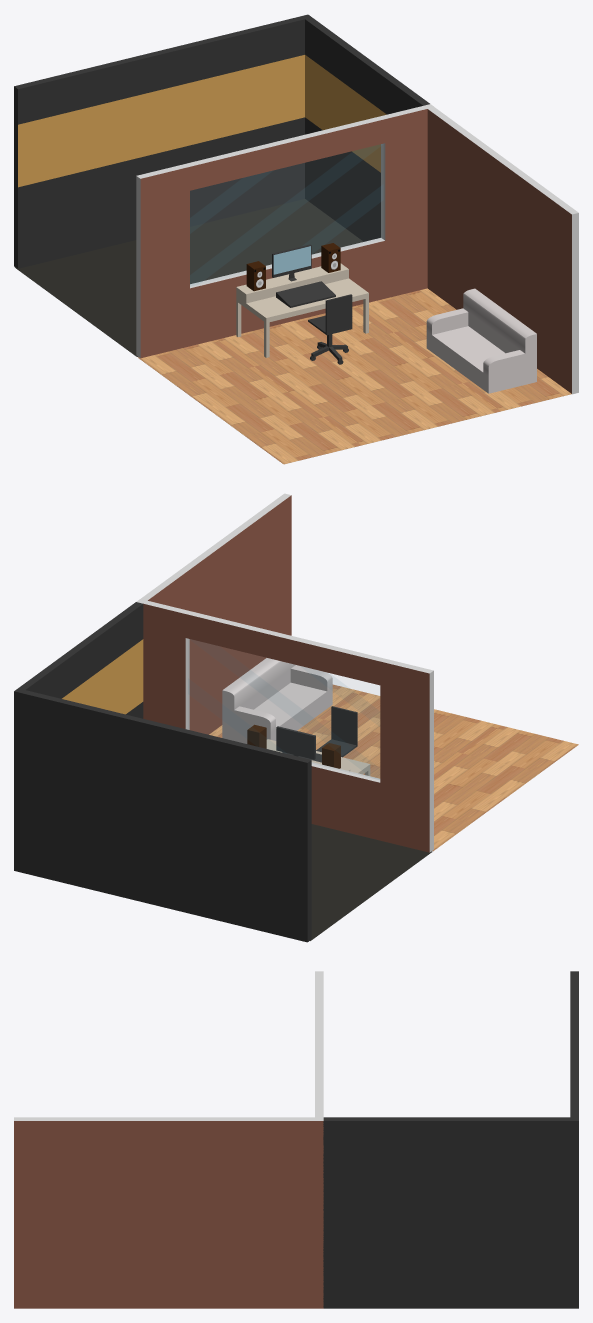
Rendered from Studio-02_Env.fbx.
3 renders of one model, top to bottom at view 1: azimuth 30°, elevation 25°; view 2: azimuth 150°, elevation 25°; view 3: azimuth 270°, elevation 25°, orthographic. The views are drawn at different scales.
Parts seen in each view (by area): view 1: wall.002, floorr.001, wall.001, Wall.001, floorr.002, Cube.017, Glass, Cube.018, Cylinder.010, lcd.001, Cube.020; view 2: wall.002, wall.001, Wall.001, floorr.001, floorr.002, Cube.017, Glass, Cylinder.010, lcd.001; view 3: Wall.001, wall.002, wall.001.
Part boxes in pixels (x1,y1,x2,y2): wall.002: (14, 14, 429, 268); floorr.001: (138, 288, 571, 464); wall.001: (136, 104, 433, 358); Wall.001: (427, 107, 578, 394); floorr.002: (15, 199, 363, 356); Cube.017: (426, 288, 536, 393); Glass: (190, 144, 382, 285); Cube.018: (236, 263, 368, 357); Cylinder.010: (308, 294, 352, 364); lcd.001: (272, 244, 311, 281); Cube.020: (276, 281, 335, 307); wall.002: (14, 602, 311, 942); wall.001: (136, 599, 433, 852); Wall.001: (141, 493, 291, 734); floorr.001: (209, 684, 578, 851); floorr.002: (309, 824, 432, 940); Cube.017: (222, 658, 332, 743); Glass: (188, 639, 379, 779); Cylinder.010: (316, 706, 357, 757); lcd.001: (276, 726, 315, 759); Wall.001: (14, 1117, 314, 1308); wall.002: (323, 971, 578, 1308); wall.001: (315, 971, 323, 1308).
Bounding box in the file's own units: 376 × 220 × 598.
